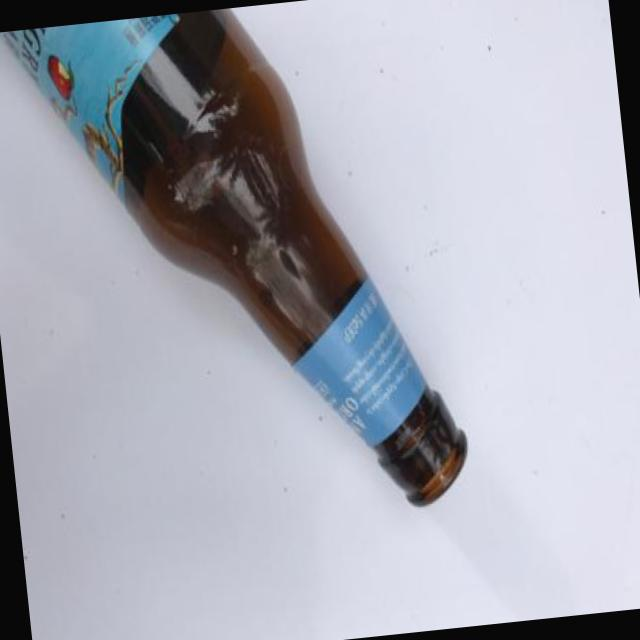chai_thuy_tinh: (4, 9, 468, 506)
